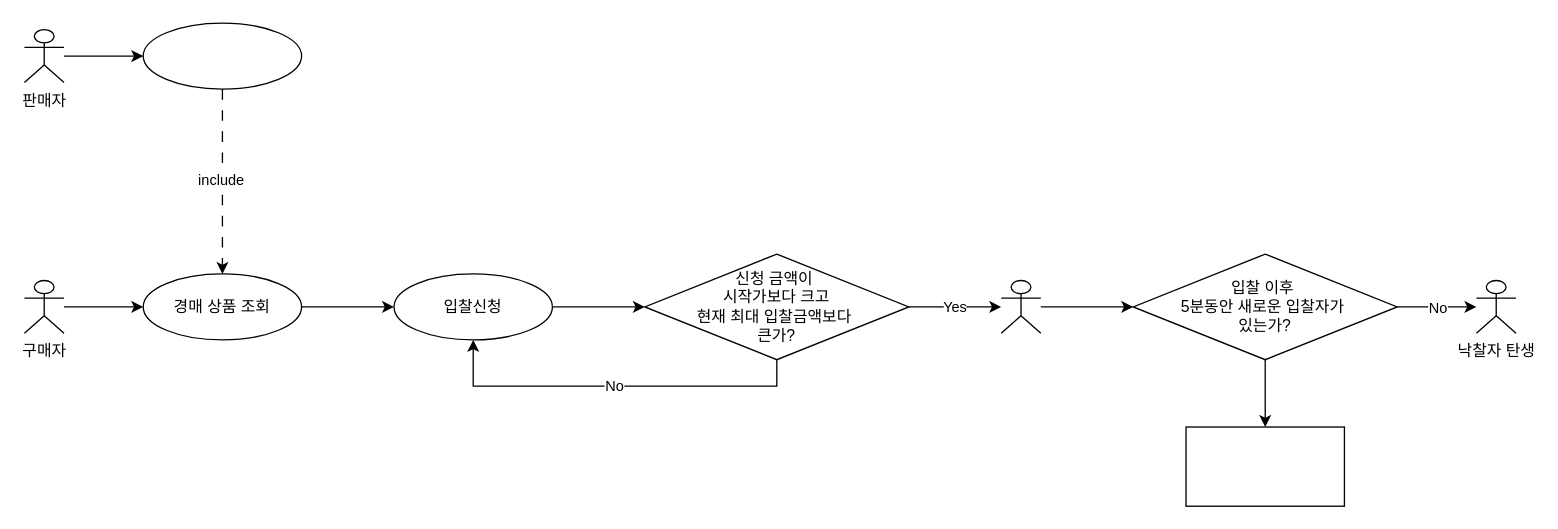
Some shapes in this 1558 by 529 pixel diagram are drawn without their labels. The shapes that lost their labels are listed below. From the top down, each one's centre as x and y in pixels, then its label:
At point (222, 55): "경매 상품 등록".
At point (1020, 306): "입찰자".
At point (1264, 466): "경매 마감 후 환불처리 예정".
